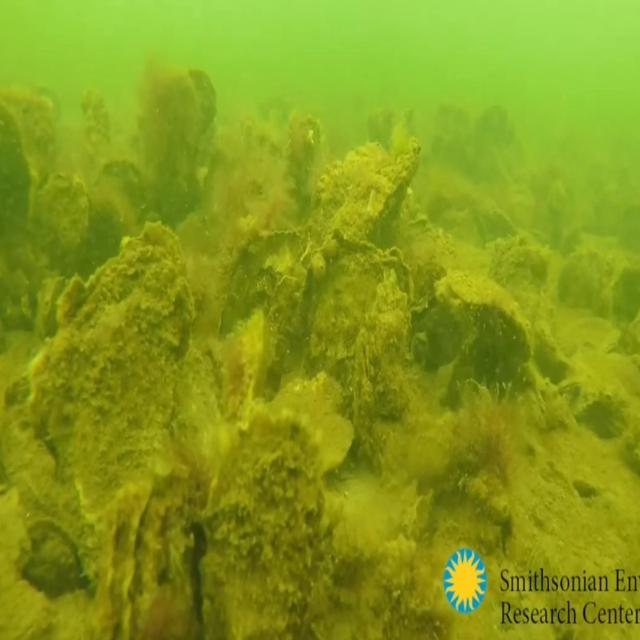Oyster-Closed: (27, 221, 200, 640), (295, 136, 423, 318), (436, 272, 533, 362)
Oyster-Indeterminate: (198, 411, 326, 640), (298, 230, 412, 422), (351, 278, 419, 489), (220, 230, 303, 395), (130, 469, 205, 640), (154, 68, 216, 223), (490, 234, 550, 361), (34, 170, 90, 296), (93, 160, 152, 276), (286, 118, 323, 224)
